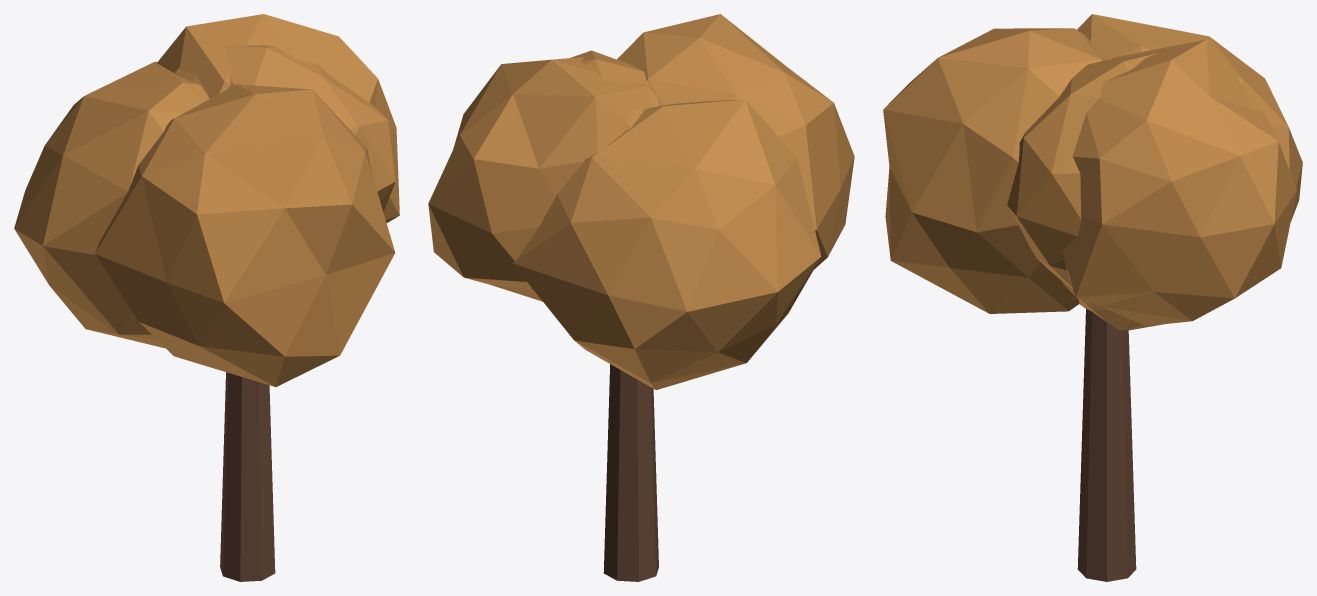
Rendered from tree_autumn.glb.
The picture shows the model from 3 angles, left to right: view 1: azimuth 30°, elevation 25°; view 2: azimuth 150°, elevation 25°; view 3: azimuth 270°, elevation 25°; orthographic projection. The views are drawn at different scales.
Parts seen in each view (by area): view 1: Icosphere.002, Icosphere.003, Cylinder, Icosphere.001, Icosphere; view 2: Icosphere.003, Icosphere.001, Icosphere.002, Cylinder, Icosphere; view 3: Icosphere.001, Icosphere.002, Cylinder, Icosphere, Icosphere.003.
Part boxes in pixels (box(x1,y1,x2,y2)): Icosphere.002: box(95, 84, 395, 386); Icosphere.003: box(14, 61, 209, 348); Cylinder: box(220, 372, 275, 581); Icosphere.001: box(156, 14, 399, 222); Icosphere: box(174, 45, 395, 212); Icosphere.003: box(512, 99, 821, 389); Icosphere.001: box(428, 57, 659, 301); Icosphere.002: box(617, 14, 854, 269); Cylinder: box(603, 364, 658, 581); Icosphere: box(531, 50, 654, 289); Icosphere.001: box(1062, 39, 1296, 325); Icosphere.002: box(883, 28, 1109, 313); Cylinder: box(1077, 309, 1136, 581); Icosphere: box(1007, 53, 1157, 311); Icosphere.003: box(1062, 14, 1302, 330).
Size of the model in its own units: 1.25 by 1.81 by 1.29.
